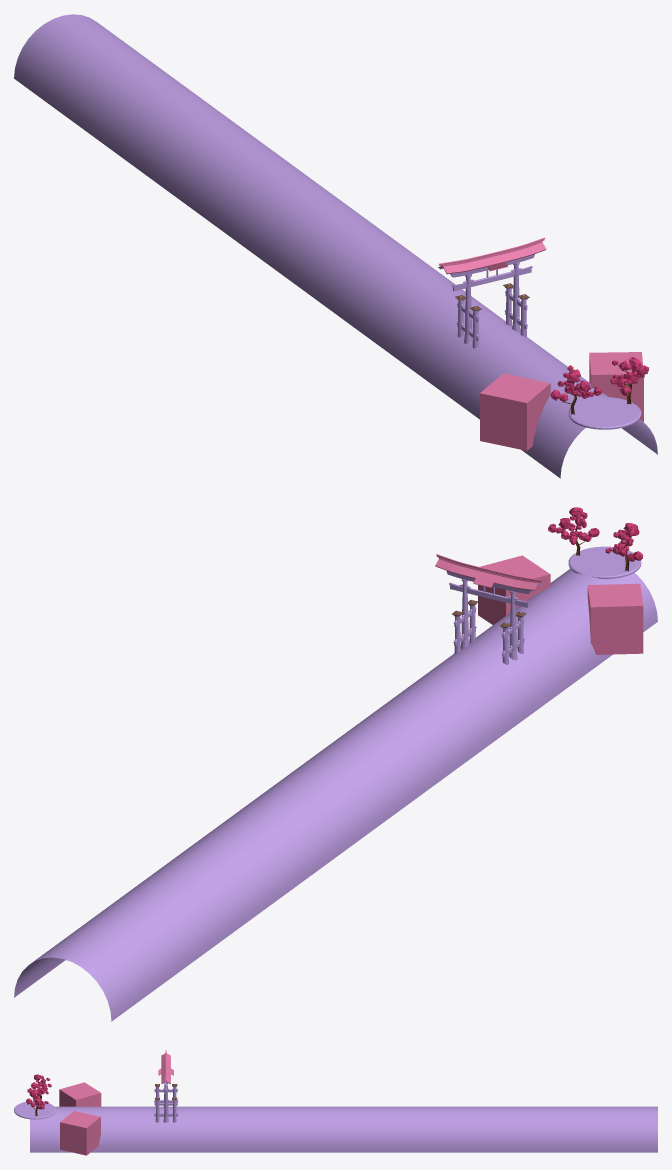
The model's file is vrSCENE.glb.
3 views of the same model, one above another, from view 1: azimuth 30°, elevation 25°; view 2: azimuth 150°, elevation 25°; view 3: azimuth 270°, elevation 25° (orthographic). The views are drawn at different scales.
Parts seen in each view (by area): view 1: Cylinder, group1663585988, Cube, Cylinder.001, Cube.001, tree.001, tree; view 2: Cylinder, group1663585988, Cube, Cube.001, Cylinder.001, tree, tree.001; view 3: Cylinder, Cube.001, group1663585988, Cube, Cylinder.001, tree.001, tree.
Part boxes in pixels (x1,y1,x2,y2): Cylinder: (14,14,657,478); group1663585988: (438,237,546,348); Cube: (480,373,550,450); Cylinder.001: (568,397,641,429); Cube.001: (589,352,643,421); tree.001: (550,365,602,414); tree: (610,357,649,404); Cylinder: (14,568,657,1021); group1663585988: (435,554,542,664); Cube: (587,583,643,654); Cube.001: (478,555,550,624); Cylinder.001: (568,546,641,579); tree: (548,507,599,555); tree.001: (605,523,642,571); Cylinder: (30,1106,657,1152); Cube.001: (60,1111,100,1155); group1663585988: (154,1050,178,1122); Cube: (59,1082,101,1106); Cylinder.001: (14,1101,55,1119); tree.001: (27,1074,51,1101); tree: (26,1089,48,1115).
Size of the model in its own units: 8.76 by 6.61 by 51.92.
